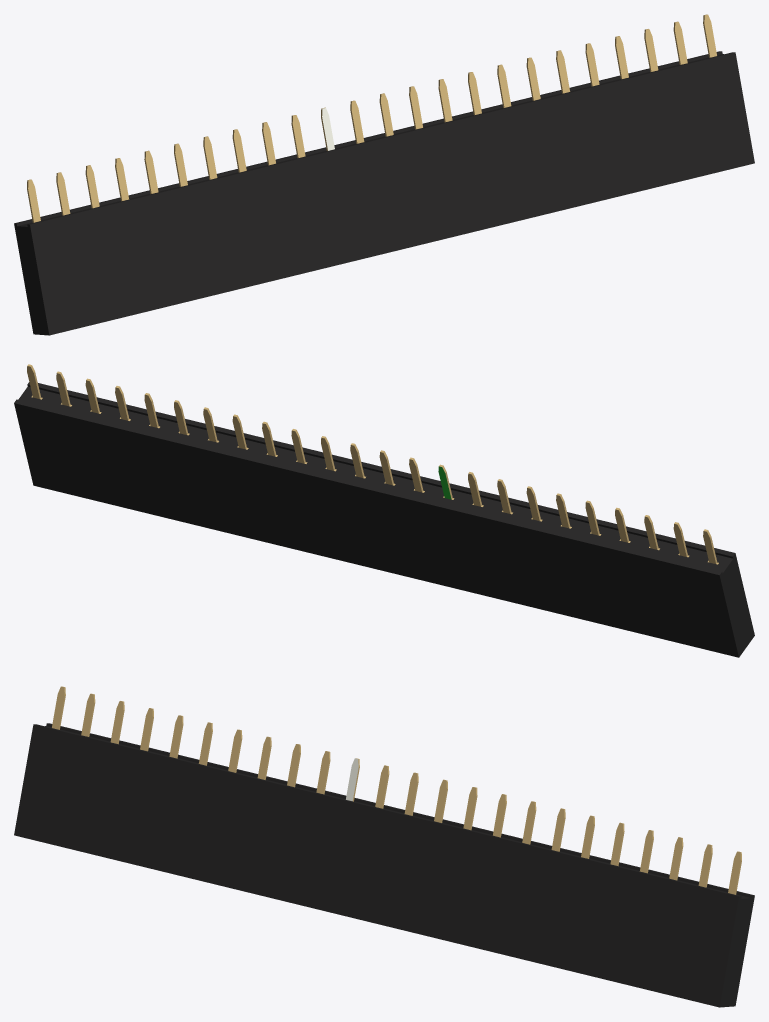
Rendered from EBoxNewAsm_stp_1_UTeensyBreakout_1_stp_1_PinSocket_1x24_P2_54mm_Vertical_stp_1_solid1.obj.
The picture shows the model from 3 angles, top to bottom: view 1: azimuth 30°, elevation 25°; view 2: azimuth 150°, elevation 25°; view 3: azimuth 330°, elevation 25°; orthographic projection.
Parts seen in each view (by area): view 1: mesh10946, mesh10943, mesh10940, mesh10945, mesh10941, mesh10938; view 2: mesh10942, mesh10938, mesh10941, mesh10945, mesh10943, mesh10939; view 3: mesh10946, mesh10944, mesh10940, mesh10945, mesh10941, mesh10938.
Boxes of the visible parts, box(x1,y1,x2,y2) form: mesh10946: box(30, 52, 754, 335); mesh10943: box(14, 223, 49, 335); mesh10940: box(16, 51, 722, 225); mesh10945: box(28, 52, 734, 224); mesh10941: box(15, 51, 721, 223); mesh10938: box(17, 54, 723, 226); mesh10942: box(14, 403, 738, 657); mesh10938: box(18, 386, 732, 572); mesh10941: box(14, 399, 721, 574); mesh10945: box(27, 382, 735, 556); mesh10943: box(719, 553, 754, 657); mesh10939: box(27, 384, 733, 558); mesh10946: box(14, 724, 738, 1007); mesh10944: box(719, 895, 754, 1007); mesh10940: box(46, 723, 752, 897); mesh10945: box(34, 724, 740, 896); mesh10941: box(47, 723, 753, 895); mesh10938: box(45, 726, 751, 898).
Bounding box in the file's own units: 0.061 × 0.0114 × 0.00529.
